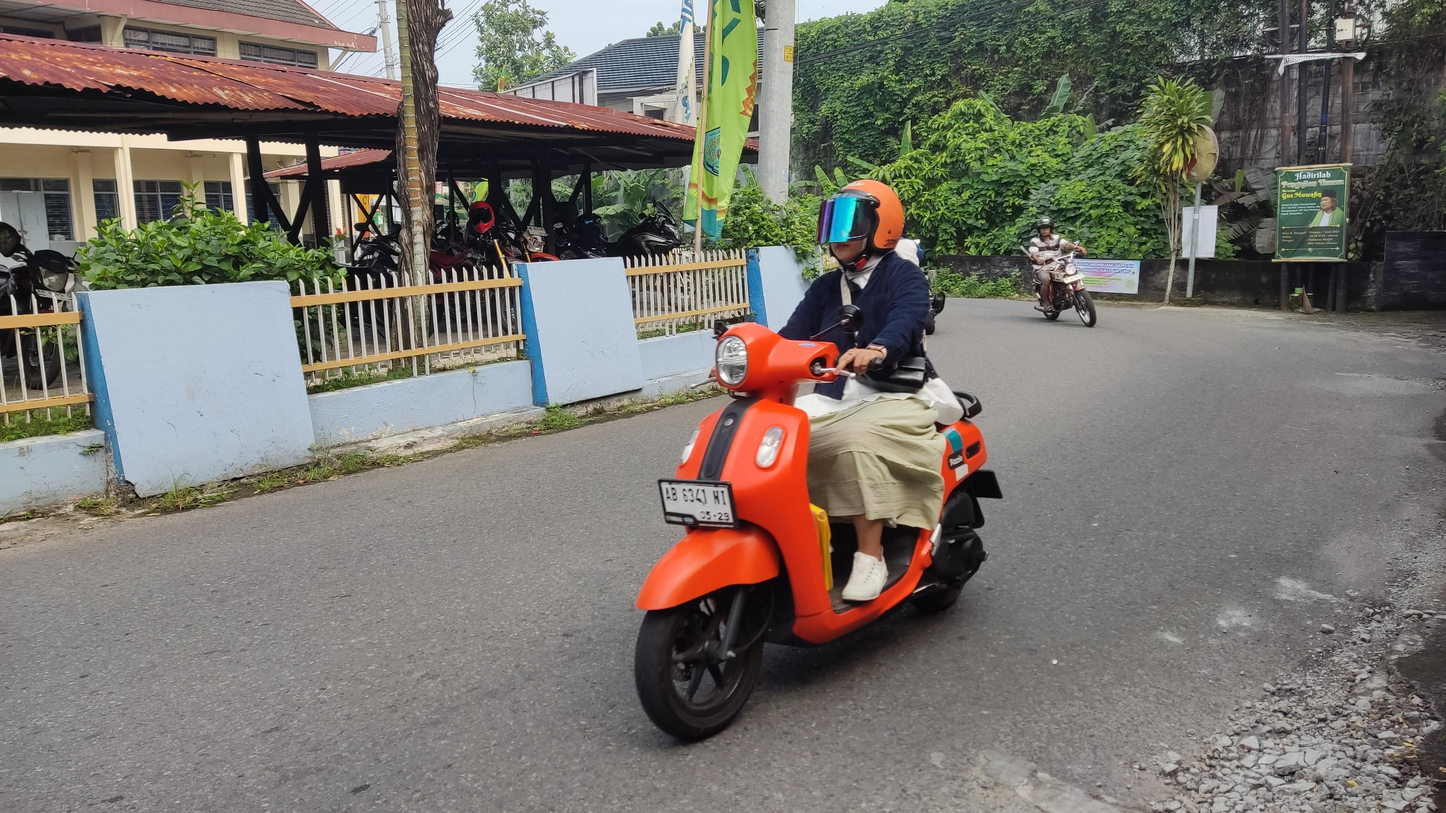helm: (817, 175, 909, 269), (1035, 216, 1056, 238)
riding: (618, 167, 1015, 754), (1027, 214, 1099, 329)
